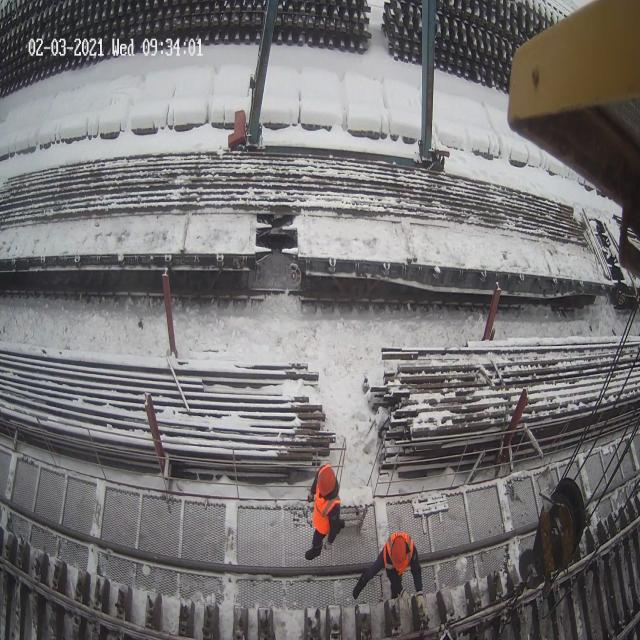Helmet: (386, 532, 414, 572), (317, 464, 336, 498)
Person: (352, 531, 424, 601), (304, 462, 345, 560)
